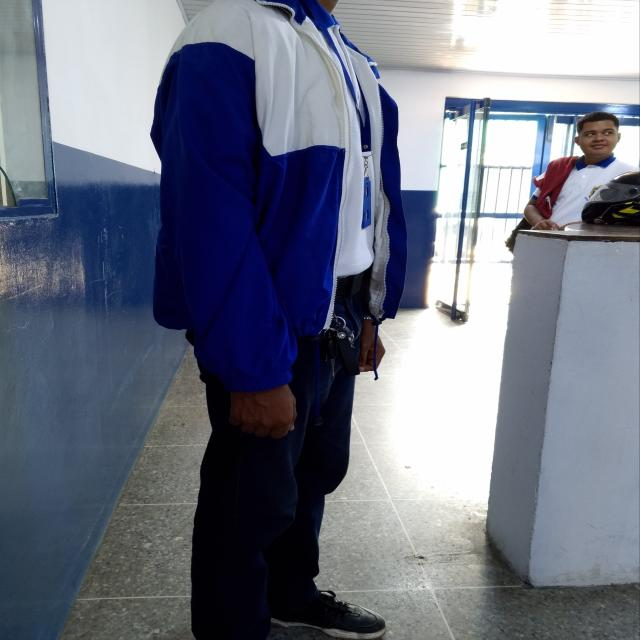carnet: (361, 178, 372, 228)
chaqueta_unefa: (147, 4, 410, 388)
uniforme_superior: (530, 153, 640, 225)
